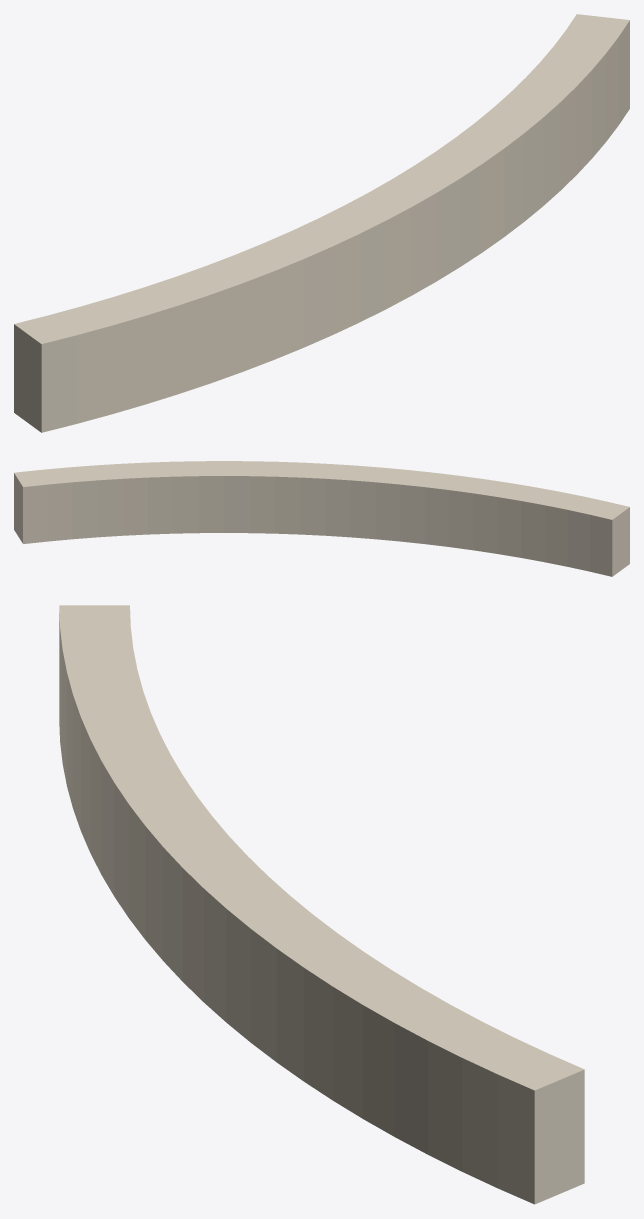
Rendered from ArcBand_R2_A45.glb.
3 renders of one model, top to bottom at view 1: azimuth 30°, elevation 25°; view 2: azimuth 150°, elevation 25°; view 3: azimuth 270°, elevation 25°, orthographic. The views are drawn at different scales.
Visible parts, largest first — view 1: PBK_Band.006; view 2: PBK_Band.006; view 3: PBK_Band.006.
Part boxes in pixels (x1=…): PBK_Band.006: x1=14, y1=14, x2=629, y2=432; PBK_Band.006: x1=14, y1=461, x2=629, y2=576; PBK_Band.006: x1=59, y1=605, x2=584, y2=1204.
Size of the model in its own units: 1.46 by 0.16 by 0.6685.
